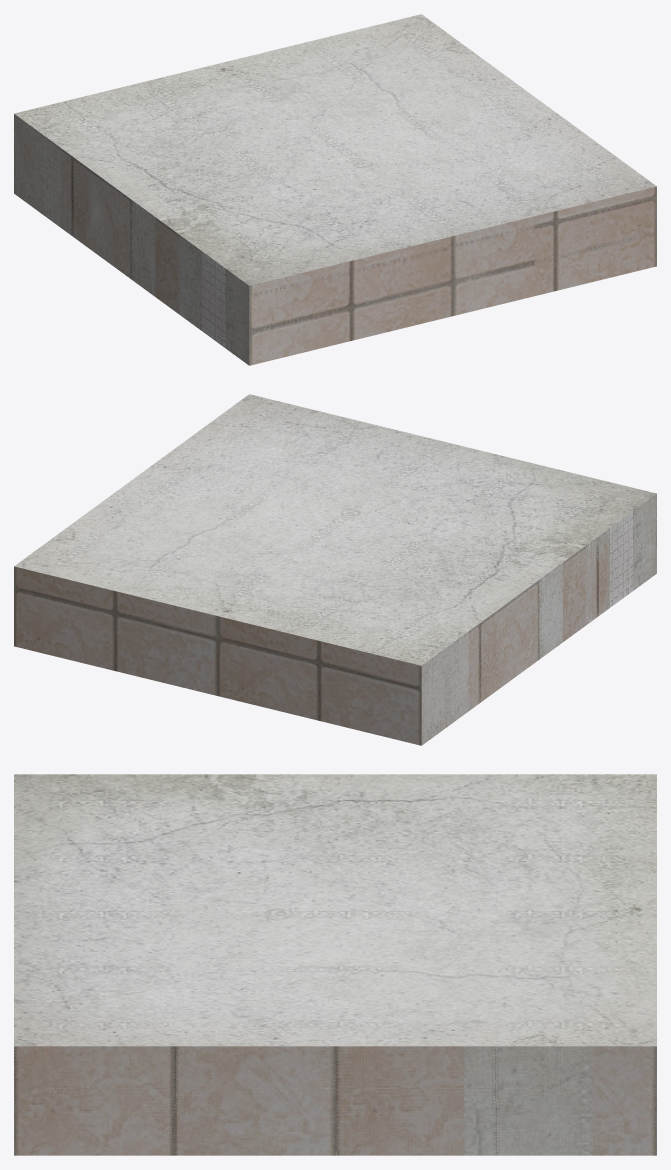
The model's file is room1.obj.
3 renders of one model, top to bottom at view 1: azimuth 30°, elevation 25°; view 2: azimuth 150°, elevation 25°; view 3: azimuth 270°, elevation 25°, orthographic. The views are drawn at different scales.
Visible parts, largest first — view 1: Plane_Plane.003; view 2: Plane_Plane.003; view 3: Plane_Plane.003.
Part boxes in pixels (x1,y1,x2,y2): Plane_Plane.003: [14, 14, 656, 365]; Plane_Plane.003: [14, 394, 656, 745]; Plane_Plane.003: [14, 774, 656, 1155].
Size of the model in its own units: 16 by 3 by 16.
